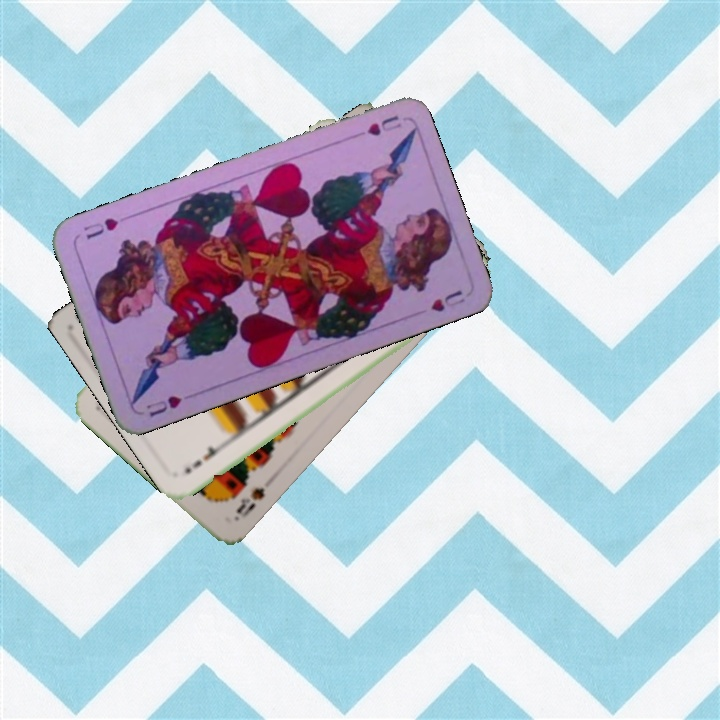E7: (180, 437, 227, 477)
HU: (142, 391, 185, 420), (362, 111, 404, 139)
S8: (231, 483, 268, 521)
